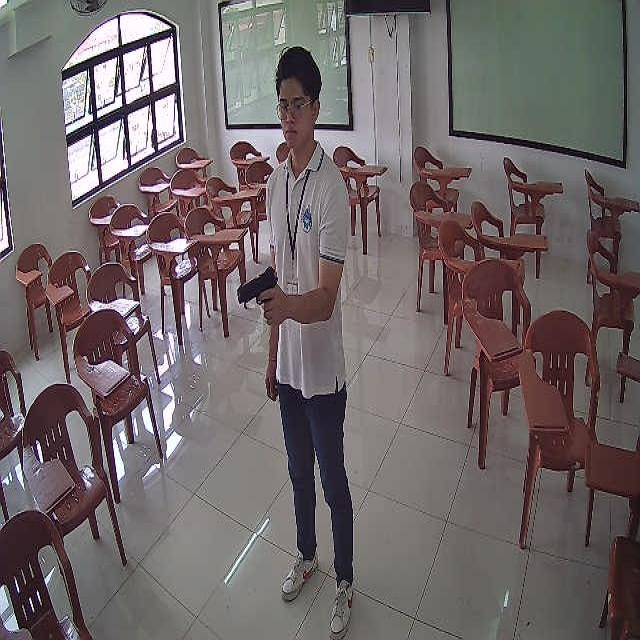pistol: (238, 268, 276, 307)
